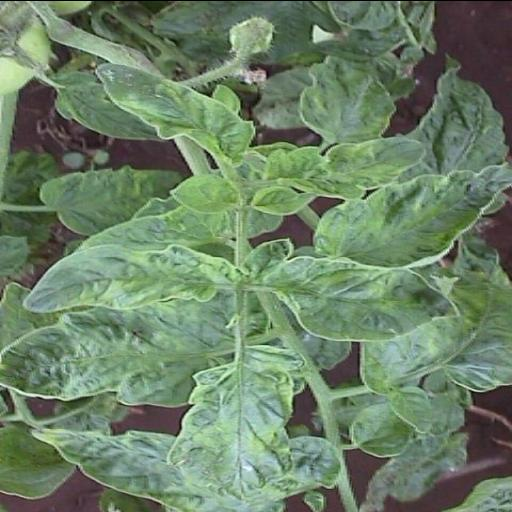disease_tomato: (0, 304, 244, 402), (307, 156, 507, 262), (170, 349, 298, 492), (256, 254, 458, 340), (88, 62, 252, 162), (20, 241, 232, 313), (263, 137, 429, 195), (300, 46, 392, 144)
